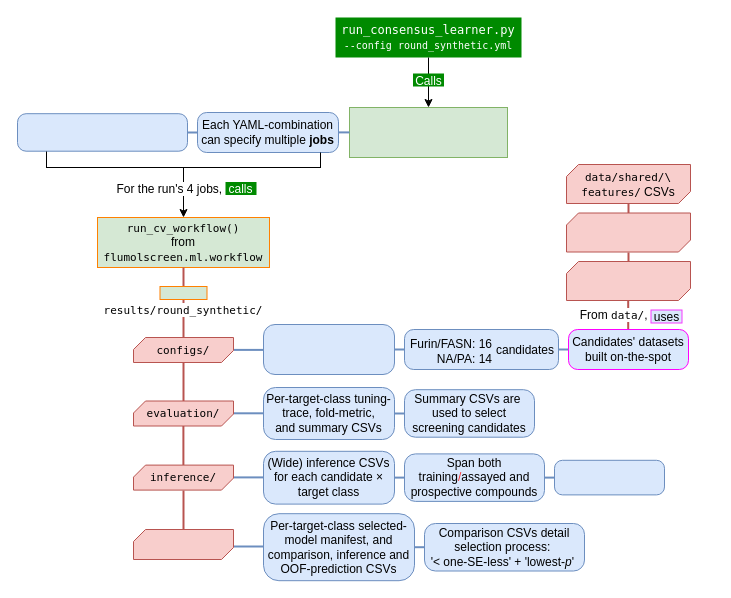
The diagram is 731 pixels wide and 598 high, and some of its shapes have lost their labels. The shapes that lost their labels are listed below. From the top down, each one's centre as x and y in pixels, then its label:
At (102,132): "3 component YAMLs: defaults, runs , comparison presets".
At (428,132): "load_run_config() from scripts/run_config.py".
At (628,232): "data/shared/\ datasets/ CSVs".
At (183,293): "Creates".
At (628,280): "round_synthetic\ /assay_data/ CSVs".
At (328,349): "Fully-expanded resolved-config YAMLs for each job".
At (609,477): "Contain calibrated half-widths".
At (183,544): "selected_\ models/".
